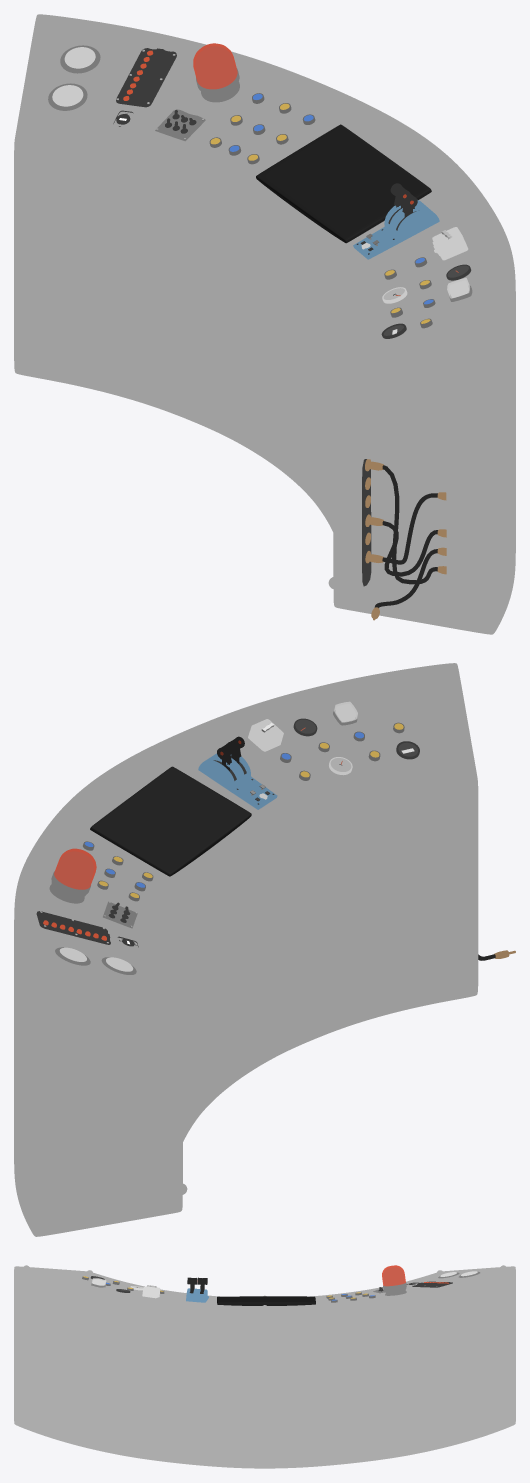
File: controlroom-test.glb
The picture shows the model from 3 angles, top to bottom: view 1: azimuth 30°, elevation 25°; view 2: azimuth 150°, elevation 25°; view 3: azimuth 270°, elevation 25°; orthographic projection. The views are drawn at different scales.
Visible parts, largest first — view 1: Panel, Panel_Screen; view 2: Panel, Panel_Screen; view 3: Panel, Panel_Screen.
Part boxes in pixels (x1,y1,x2,y2): Panel: (14, 14, 515, 634); Panel_Screen: (256, 124, 431, 243); Panel: (14, 663, 515, 1236); Panel_Screen: (90, 766, 251, 876); Panel: (14, 1265, 515, 1468); Panel_Screen: (217, 1296, 315, 1305).
Bounding box in the file's own units: 0.8533 × 1.02 × 2.62.
